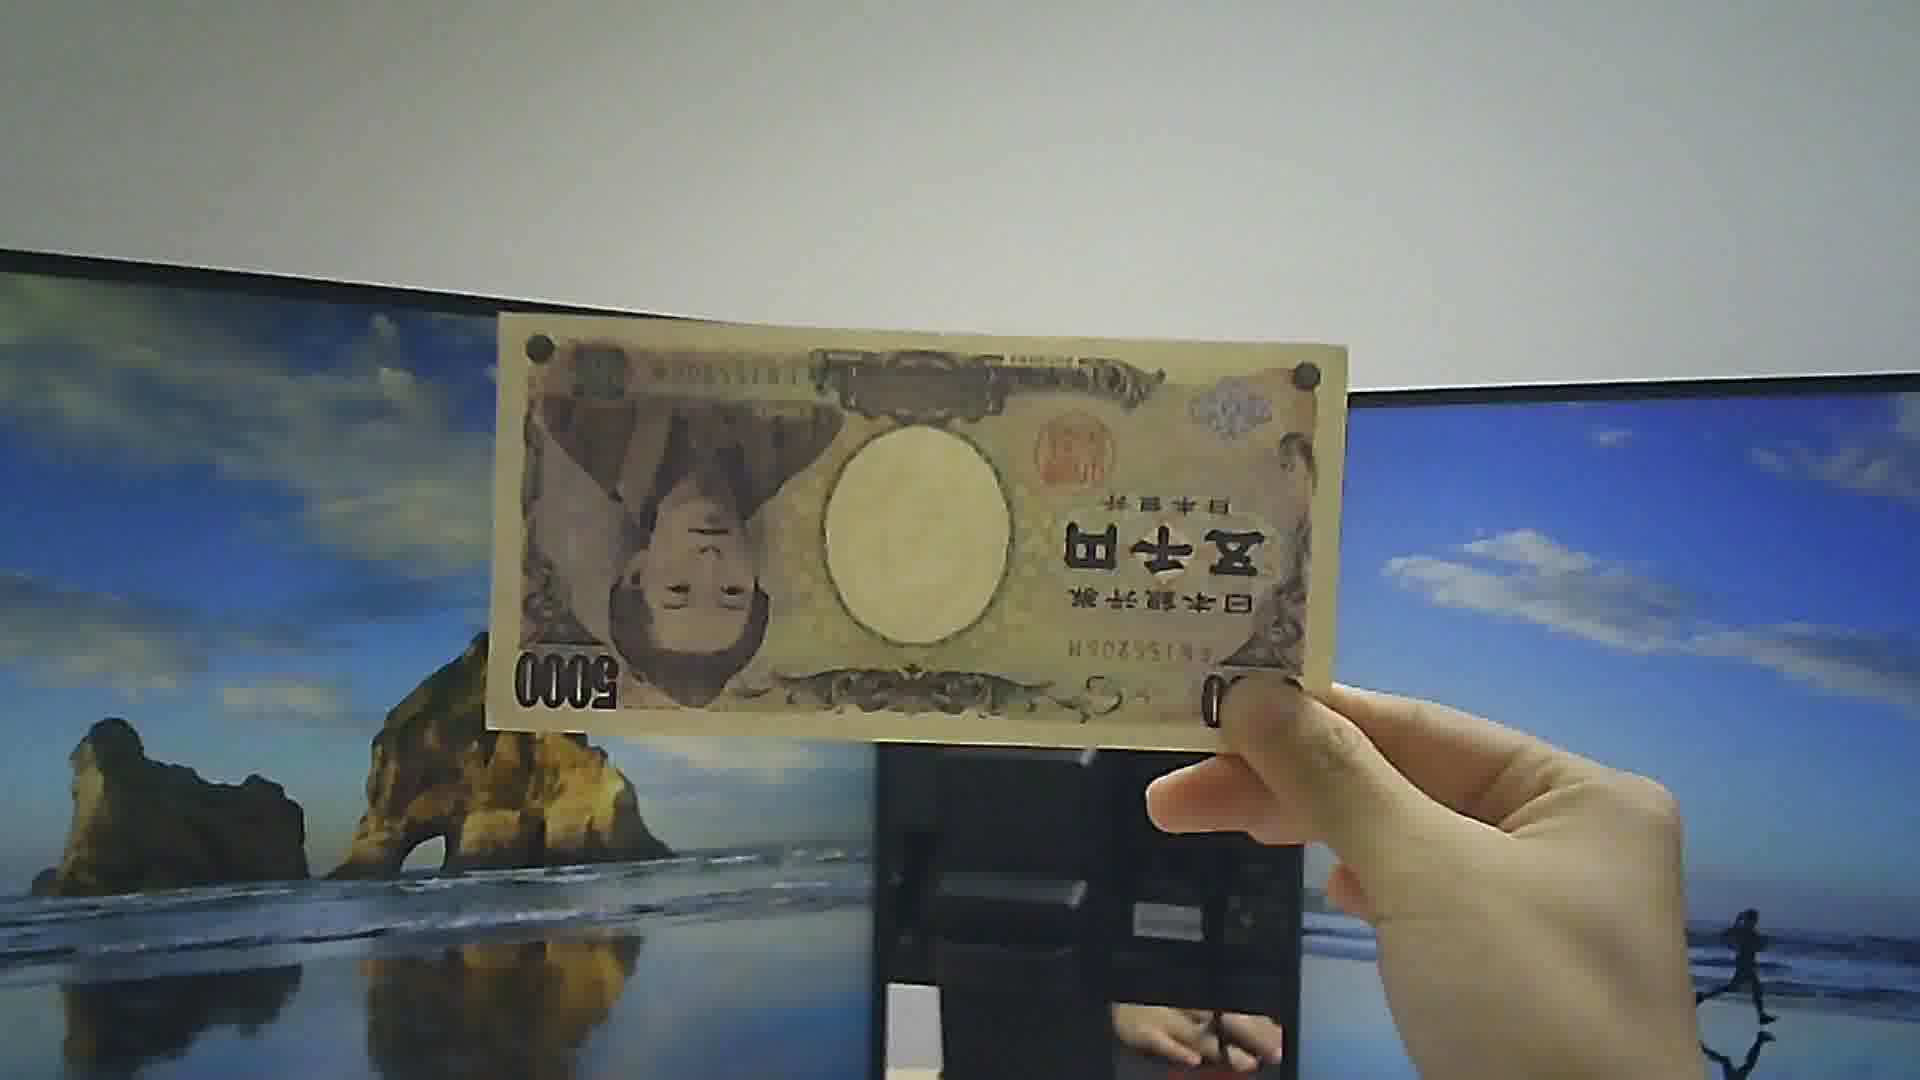5,000 Yen: (471, 286, 1329, 774)
